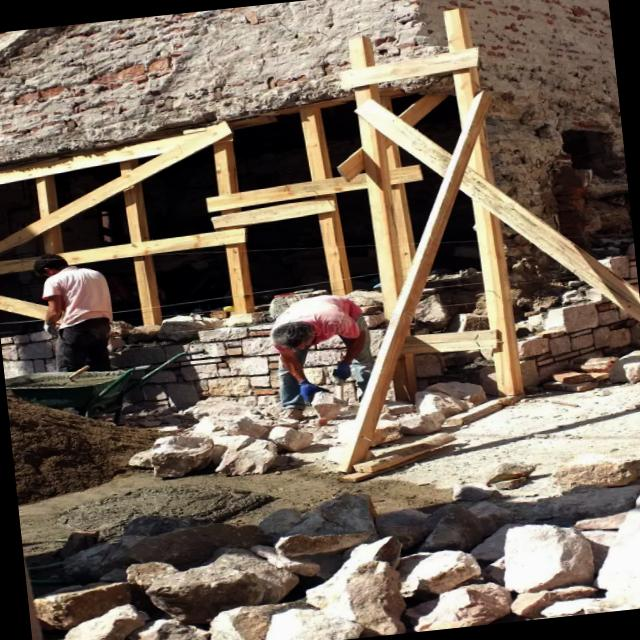no-helmet: (262, 320, 315, 350), (29, 248, 76, 272)
no-vest: (271, 290, 360, 348), (44, 269, 114, 340)
person: (257, 288, 383, 421), (17, 240, 136, 374)
